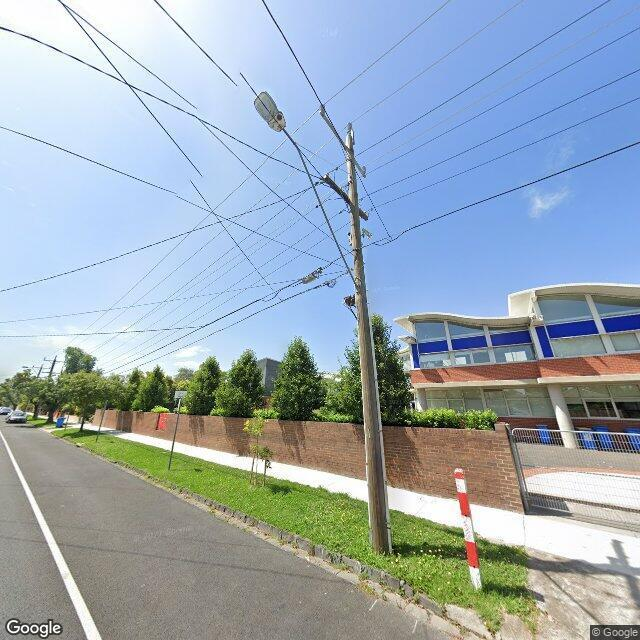HV-transmission: (319, 104, 366, 176), (43, 354, 64, 362), (33, 364, 50, 369)
crossarm: (319, 111, 365, 177), (315, 168, 373, 220)
streetlight: (253, 91, 361, 294), (22, 366, 40, 368)
timber-pole: (346, 136, 392, 554), (49, 359, 56, 376), (36, 367, 42, 378)
